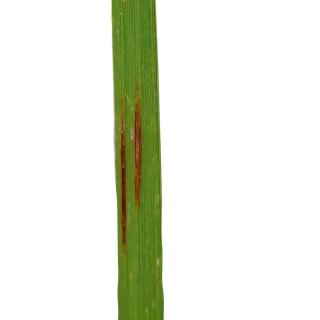Bercak-Cokelat-Sempit: (114, 92, 130, 268), (133, 80, 149, 212)
